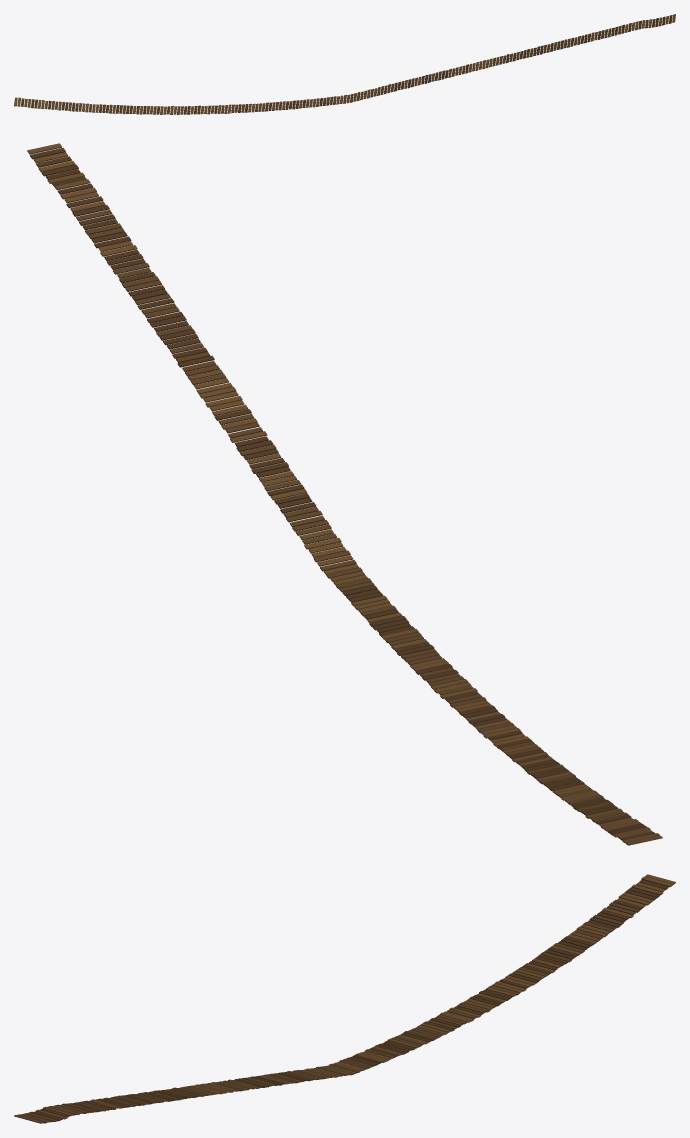
The model's file is SM_Bridge_14_15.fbx.
3 renders of one model, top to bottom at view 1: azimuth 30°, elevation 25°; view 2: azimuth 150°, elevation 25°; view 3: azimuth 270°, elevation 25°, orthographic. The views are drawn at different scales.
Visible parts, largest first — view 1: SM_Bridge_14_15; view 2: SM_Bridge_14_15; view 3: SM_Bridge_14_15.
Boxes of the visible parts, x1,y1,x2,y2 form: SM_Bridge_14_15: [14, 14, 675, 114]; SM_Bridge_14_15: [27, 143, 662, 845]; SM_Bridge_14_15: [14, 874, 675, 1123].
Size of the model in its own units: 69.2 by 14.08 by 45.95.
